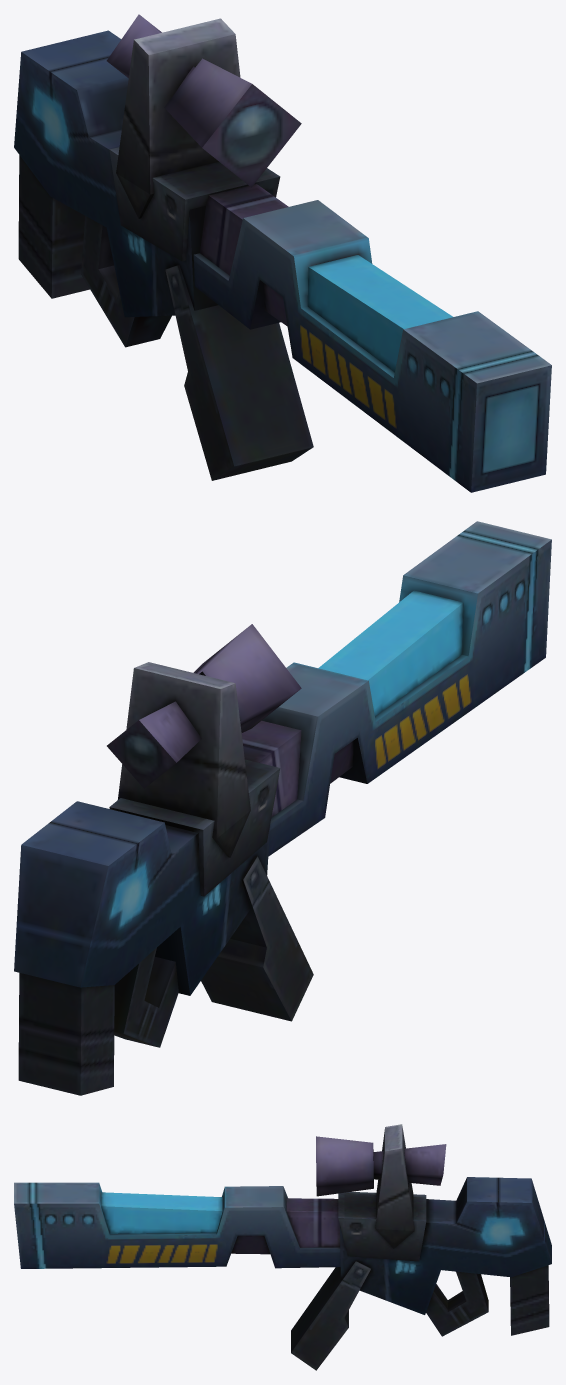
Rendered from Weapon_LaserGun_02b8ab0d__Weapon_Lasergun_dec1b363_c1f257.obj.
The picture shows the model from 3 angles, top to bottom: view 1: azimuth 30°, elevation 25°; view 2: azimuth 150°, elevation 25°; view 3: azimuth 270°, elevation 25°; orthographic projection. The views are drawn at different scales.
Bounding box in the file's own units: 0.1829 × 0.6733 × 1.47.
Materials: 1 (1 with a texture image).
